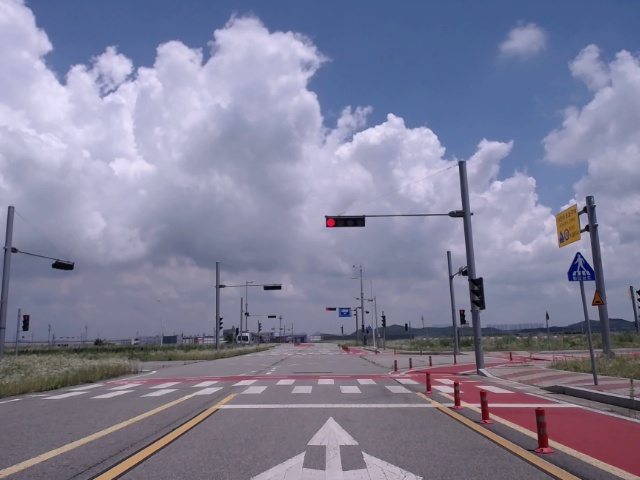red_4: (326, 217, 365, 227)
